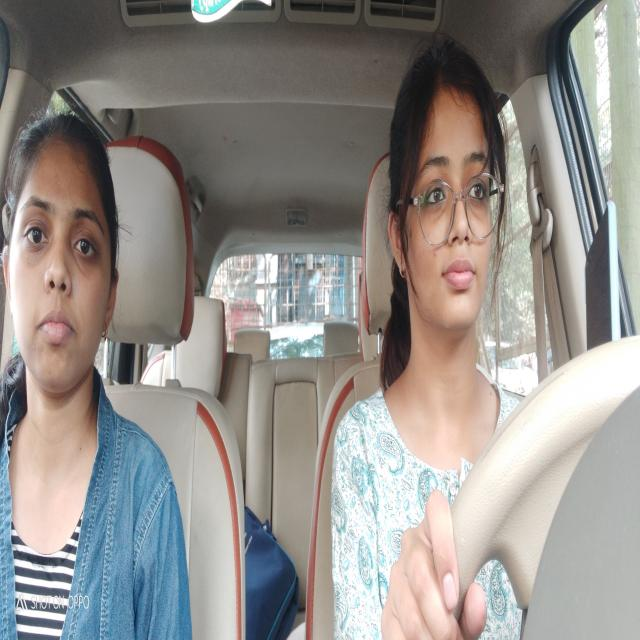person: (386, 31, 512, 384), (4, 104, 123, 423)
